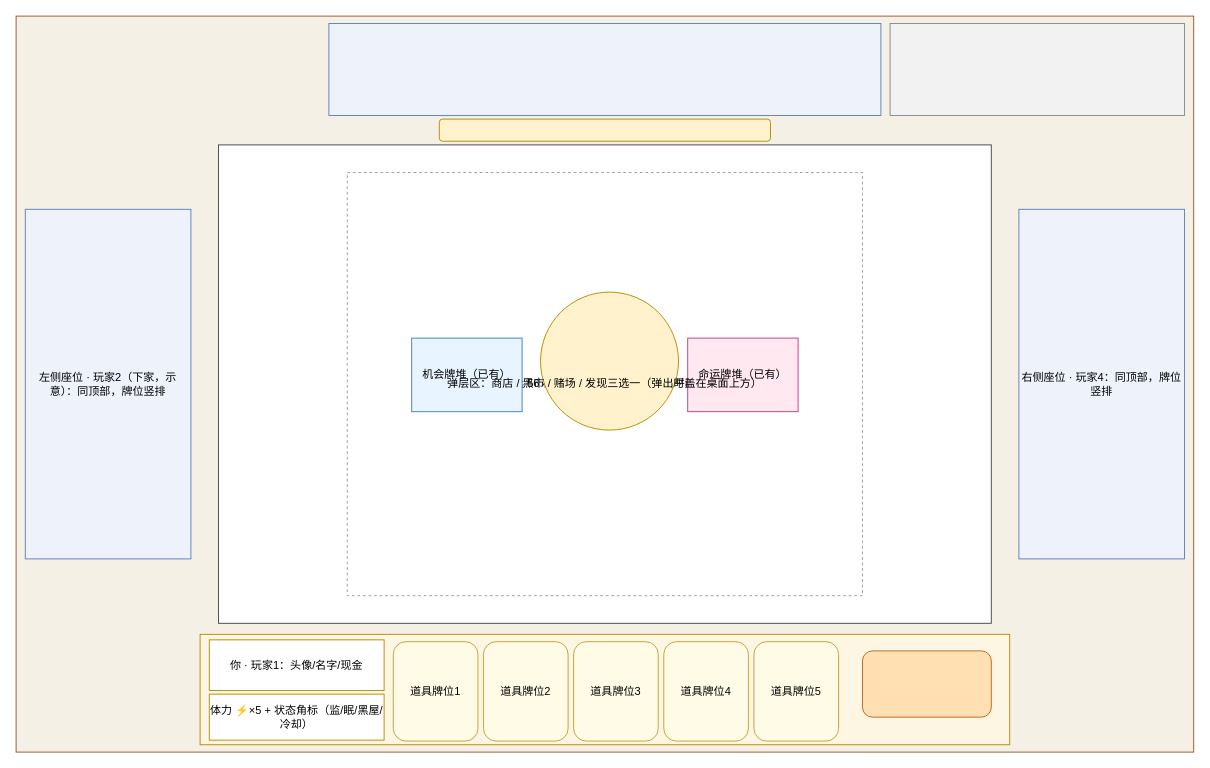
Image size: 1210x768. Some labels were removed from this diagram. The centre of each missing label's shape, as x and y in pixels:
当前回合横幅（现有元素迁移）: point (604, 129)
日志 / 聊天（可折叠）: point (1036, 69)
行动按钮：掷轮 / 使用道具: point (926, 683)
转轮（已有）: point (609, 360)
顶部座位 · 玩家3：头像/名字/现金/体力⚡/状态角标 + 道具牌位×5（小 · 非交互）: point (604, 69)
